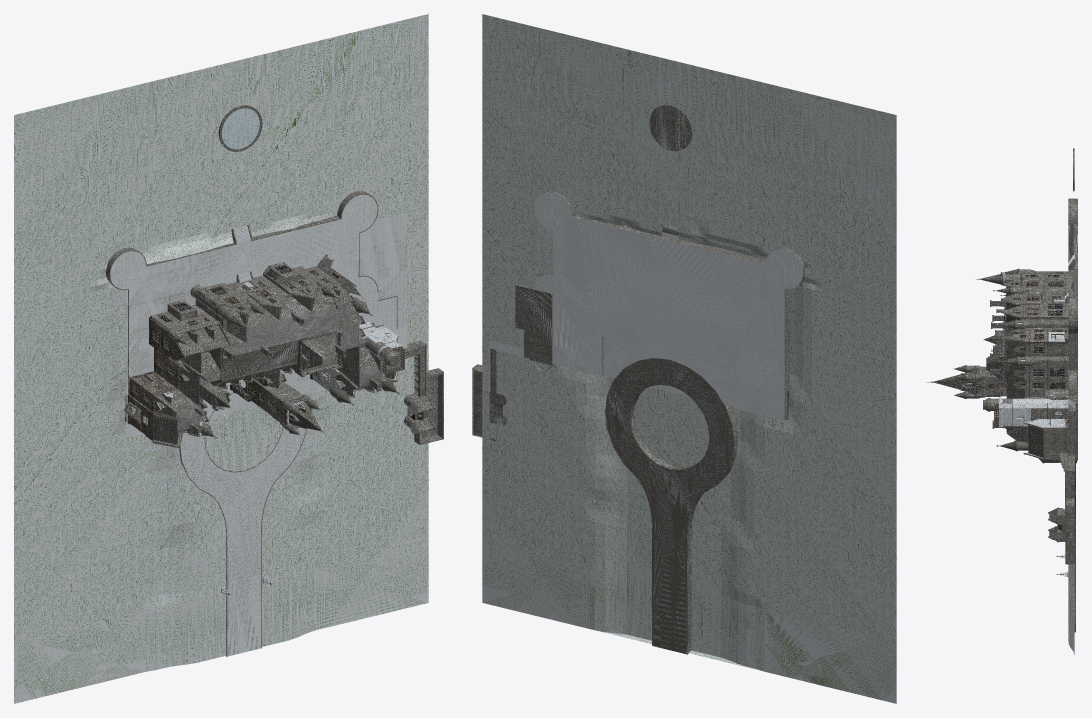
File: castilloFormato.fbx
3 views of the same model, side by side, from view 1: azimuth 30°, elevation 25°; view 2: azimuth 150°, elevation 25°; view 3: azimuth 270°, elevation 25° (orthographic). The views are drawn at different scales.
Visible parts, largest first — view 1: Material3.001, Material3.014, Material2.003, Material2, Material3.002, Material2.005, Material2.004, Material2.001, Material3.011, Material3.012, Material3.015, Material2.002 (+1 smaller); view 2: Material3.001, Material3.014, Material2.001, Material3.003, Material2, Material3.002; view 3: Material2, Material3.001, Material2.003, Material2.005, Material2.001, Material3.002, Material2.002, Material2.008, Material3.018.
Part boxes in pixels (x1,y1,x2,y2): Material3.001: [14, 14, 443, 703]; Material3.014: [14, 15, 428, 701]; Material2.003: [154, 279, 433, 444]; Material2: [105, 191, 443, 447]; Material3.002: [126, 272, 436, 646]; Material2.005: [125, 264, 362, 447]; Material2.004: [176, 295, 401, 438]; Material2.001: [124, 105, 420, 656]; Material3.011: [126, 212, 407, 437]; Material3.012: [110, 195, 386, 389]; Material3.015: [181, 427, 304, 655]; Material2.002: [149, 278, 427, 448]; Material3.001: [472, 14, 896, 703]; Material3.014: [482, 15, 896, 699]; Material2.001: [605, 105, 738, 654]; Material3.003: [489, 193, 802, 419]; Material2: [472, 191, 805, 440]; Material3.002: [489, 358, 737, 653]; Material2: [966, 198, 1077, 564]; Material3.001: [955, 151, 1077, 654]; Material2.003: [933, 269, 1061, 535]; Material2.005: [998, 270, 1064, 443]; Material2.001: [966, 148, 1075, 632]; Material3.002: [935, 268, 1075, 622]; Material2.002: [966, 288, 1065, 511]; Material2.008: [941, 367, 1006, 397]; Material3.018: [994, 397, 1067, 427].
Bounding box in the file's own units: 184 × 245 × 65.86.
62 materials, 37 textured.
